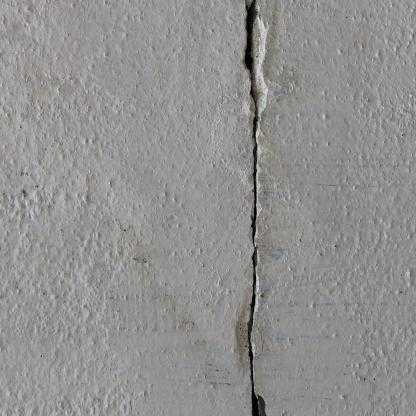crack: (245, 0, 265, 416)
